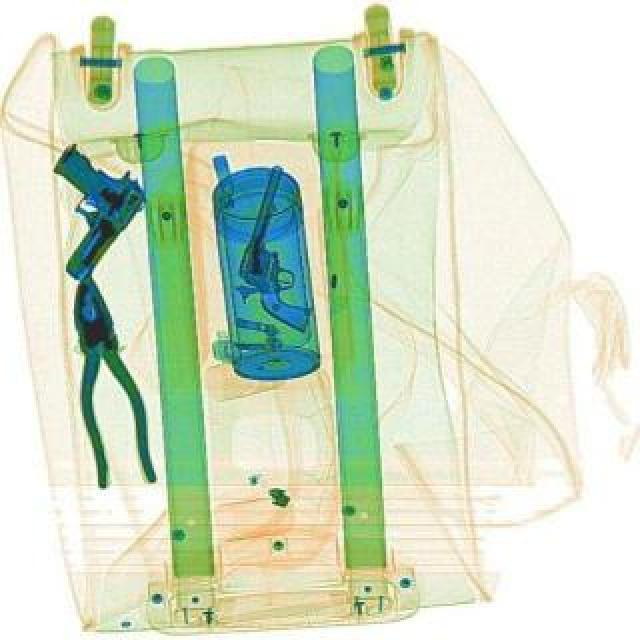gun: (2, 138, 154, 286), (224, 162, 346, 330)
wrench: (48, 266, 160, 494)
